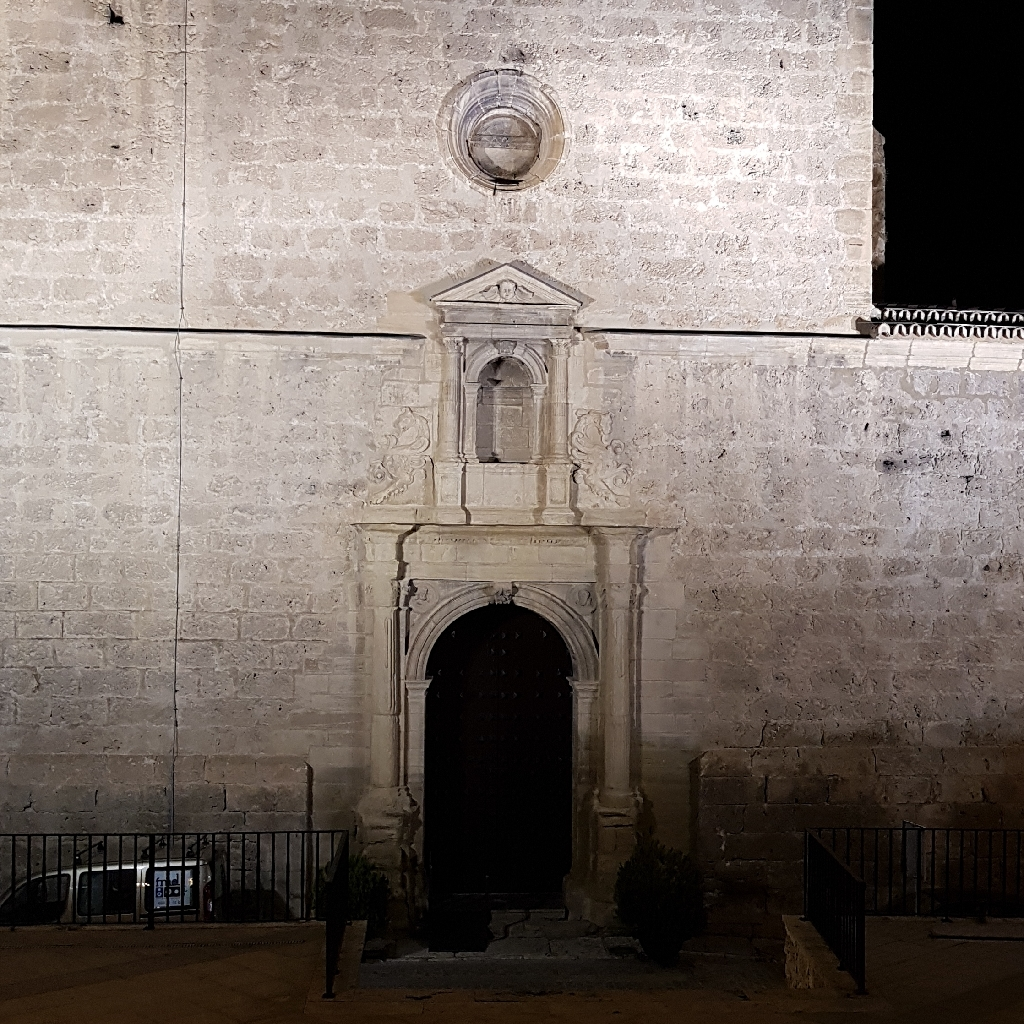arco-medio-punto: (418, 598, 585, 708), (473, 350, 541, 399)
fronton: (430, 261, 589, 315)
